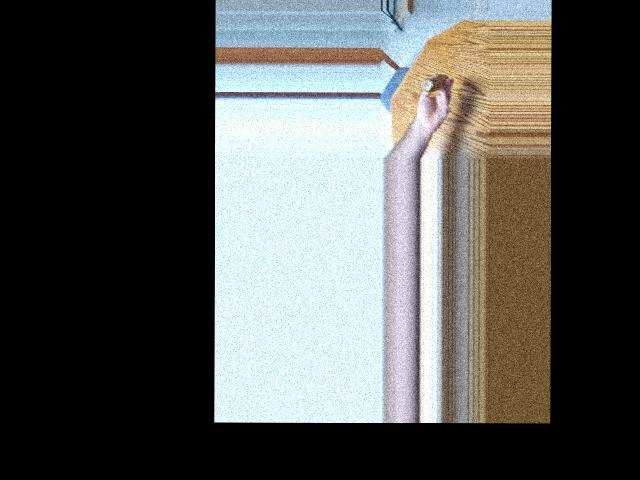sweet_potato: (417, 73, 449, 96)
